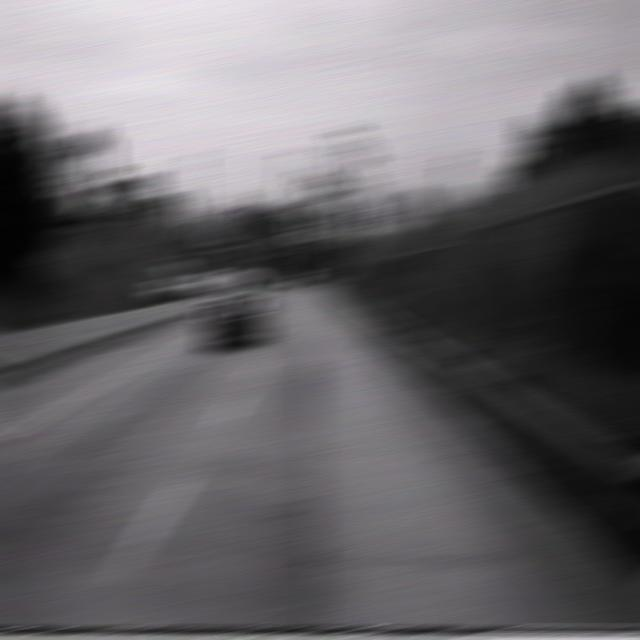speedLimit25: (126, 174, 160, 222), (362, 197, 392, 231)
